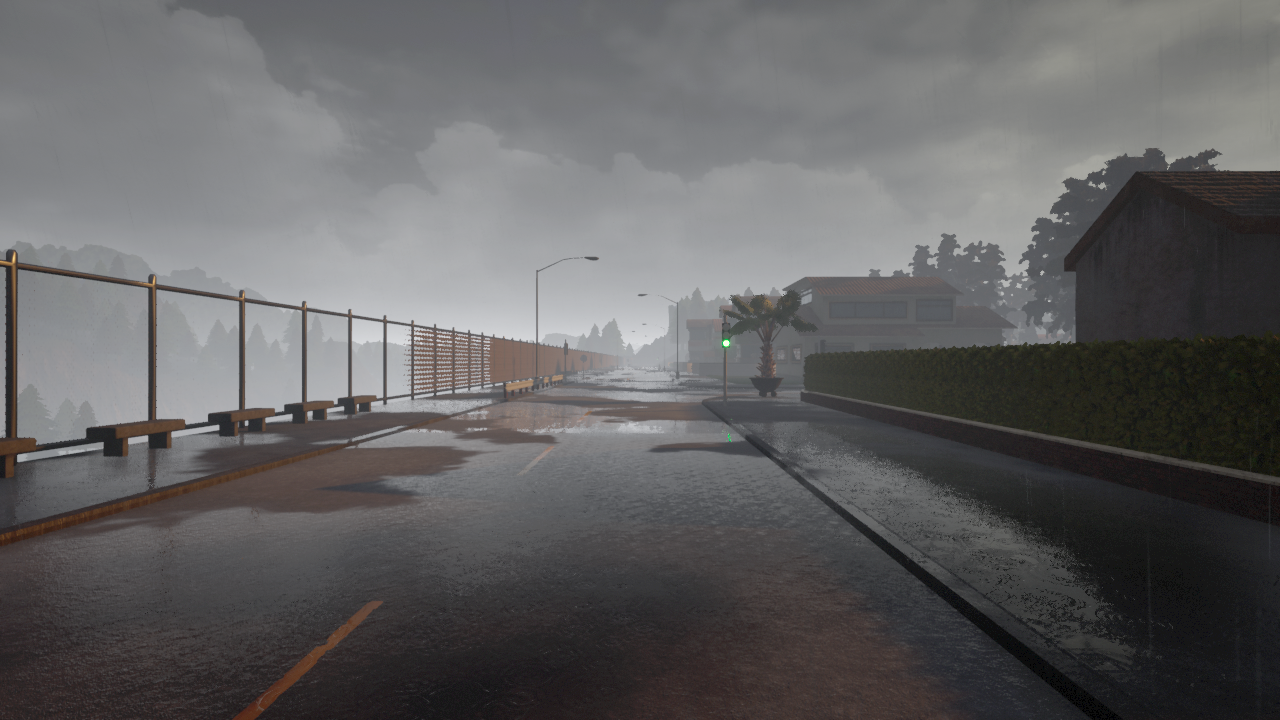green: (721, 323, 732, 349)
